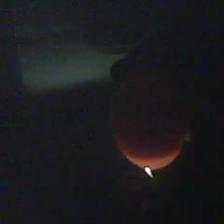fertile: (110, 73, 186, 170)
